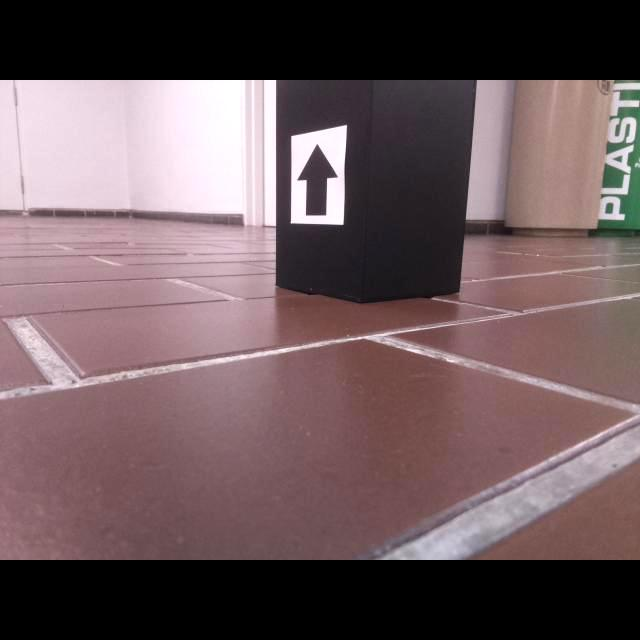UP: (296, 143, 339, 216)
